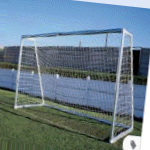goals: (12, 27, 136, 142)
